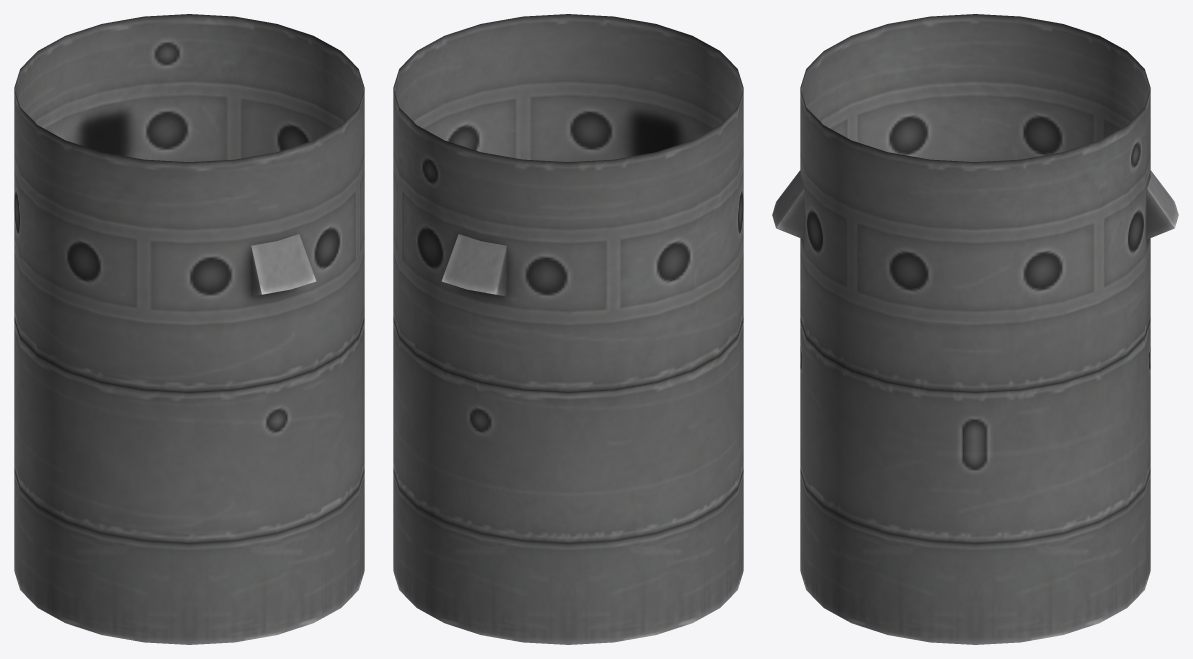
Rendered from black_knight_engine_s0_1.obj.
The picture shows the model from 3 angles, left to right: view 1: azimuth 30°, elevation 25°; view 2: azimuth 150°, elevation 25°; view 3: azimuth 270°, elevation 25°; orthographic projection.
Parts seen in each view (by area): view 1: mesh1, extension1; view 2: mesh1, extension1; view 3: mesh1, extension1.
Boxes of the visible parts, bbox=[...] form: mesh1: bbox=[14, 14, 364, 543]; extension1: bbox=[14, 470, 364, 644]; mesh1: bbox=[393, 14, 743, 543]; extension1: bbox=[393, 470, 743, 644]; mesh1: bbox=[772, 14, 1178, 543]; extension1: bbox=[800, 470, 1150, 644].
Size of the model in its own units: 0.625 by 0.95 by 0.725.
2 materials, 2 textured.
